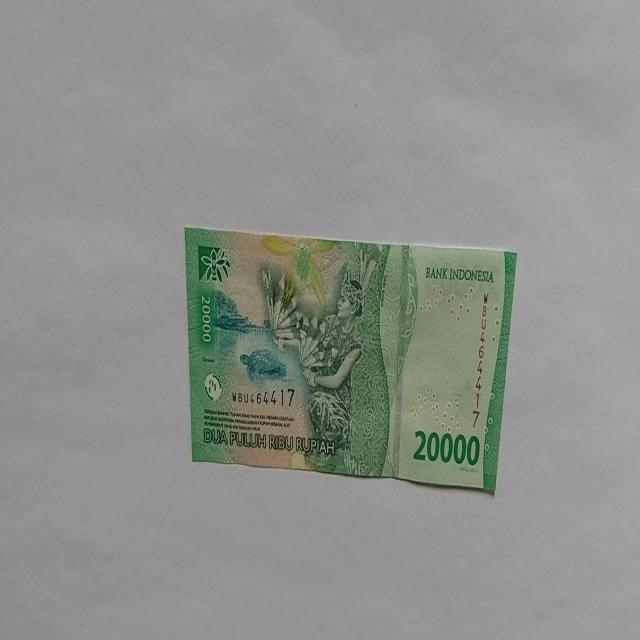dua puluh ribu rupiah: (183, 225, 518, 496)
